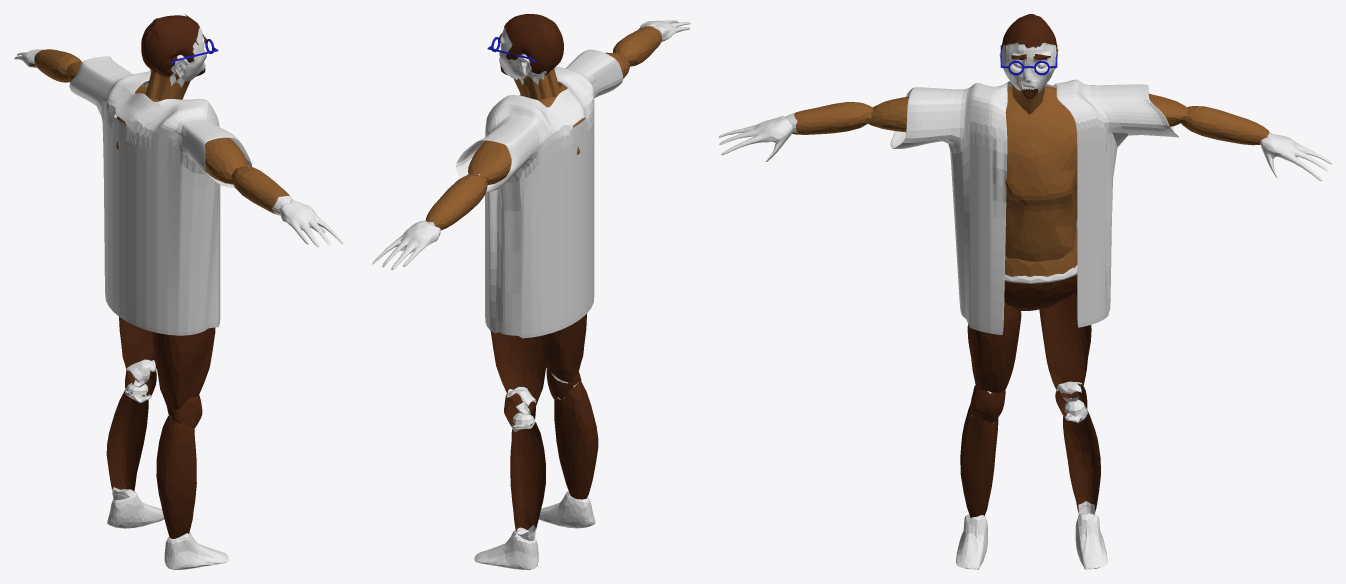
File: LD_52_main_character_new_head_CLOTH.fbx
3 views of the same model, side by side, from view 1: azimuth 30°, elevation 25°; view 2: azimuth 150°, elevation 25°; view 3: azimuth 270°, elevation 25° (orthographic). The views are drawn at different scales.
Visible parts, largest first — view 1: shirt, head; view 2: head, shirt; view 3: head, shirt.
Boxes of the visible parts, x1,y1,x2,y2 form: shirt: [69, 56, 251, 335]; head: [14, 14, 343, 569]; head: [372, 14, 690, 569]; shirt: [456, 49, 623, 338]; head: [719, 14, 1331, 569]; shirt: [890, 79, 1178, 334].
Bounding box in the file's own units: 31.16 × 180 × 185.
